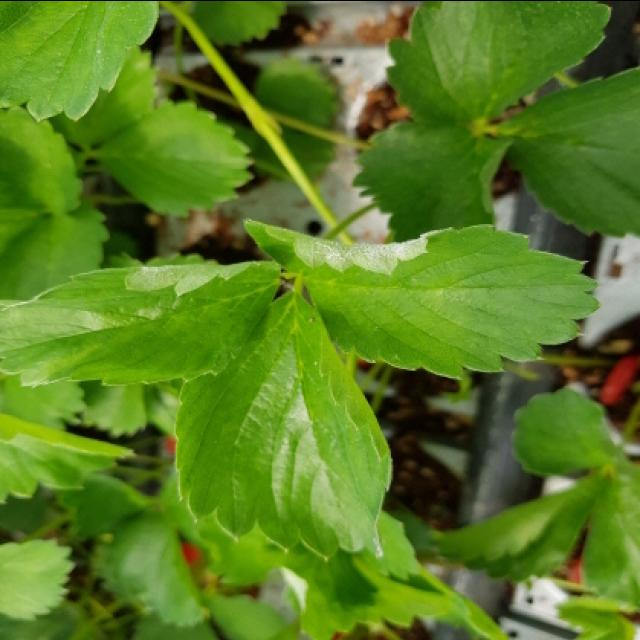Powdery Mildew Leaf: (175, 282, 393, 561), (244, 216, 601, 378), (0, 259, 282, 387)
